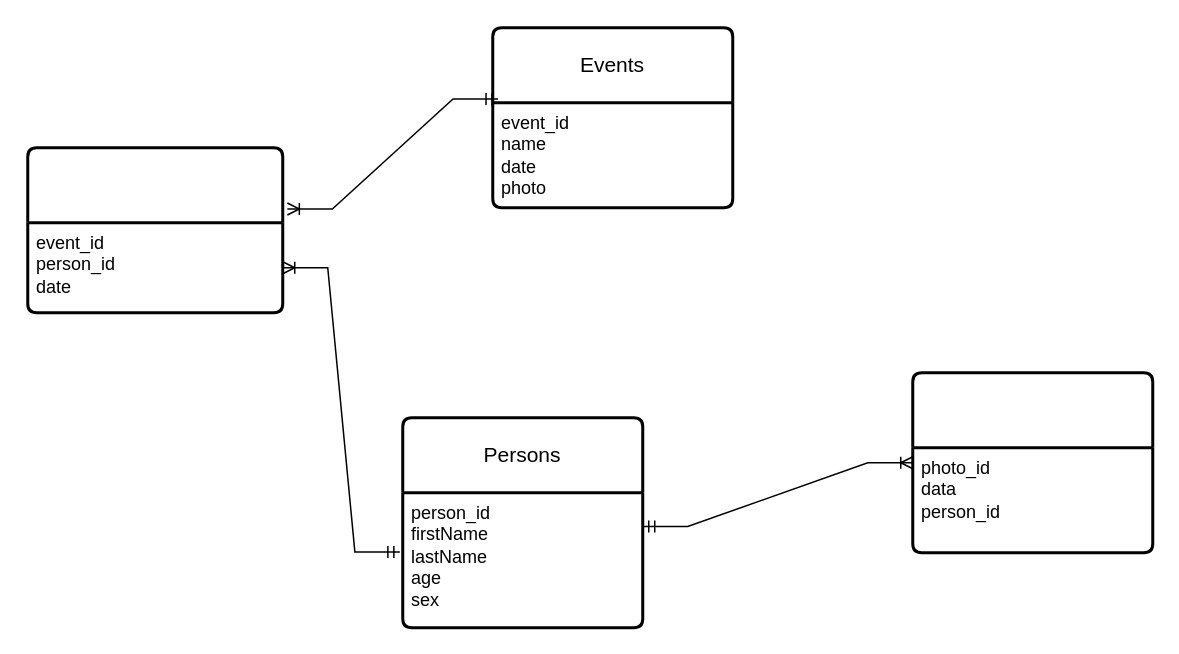
The diagram is 1179 pixels wide and 654 high, and some of its shapes have lost their labels. The shapes that lost their labels are listed below. From the top down, each one's box as (x1, y1, x2, y2) in pixels, then its label:
(26, 146, 284, 314): Enrollments
(910, 370, 1154, 554): Photos
